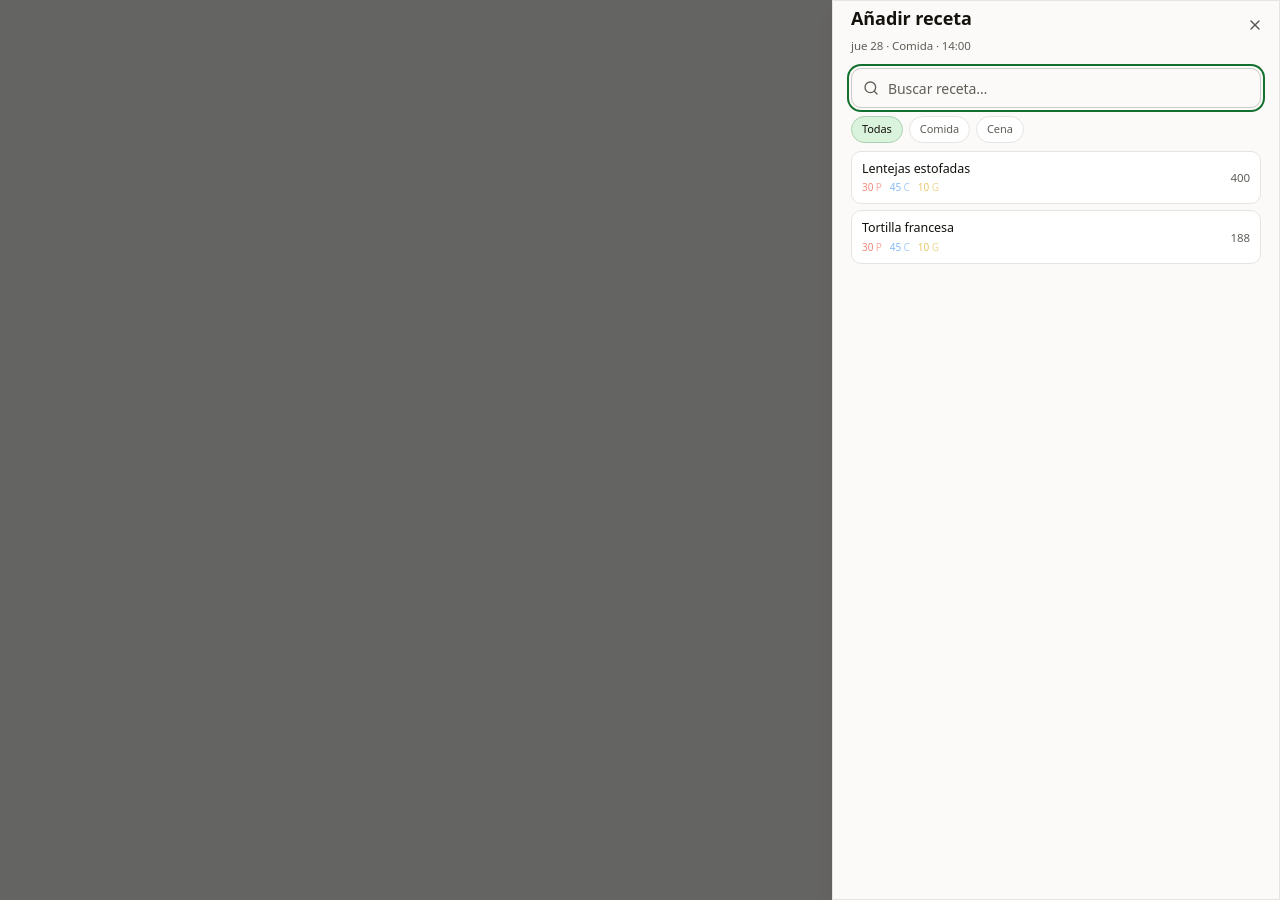
it: AddRecipeDrawer › filters the recipe list by meal-type chips, composing with the search box
Expected: the text "Lentejas estofadas" is shown, [862, 160, 970, 176]
Expected: the text "Tortilla francesa" is shown, [862, 219, 954, 236]
Click the radio button labelled "Cena" at (1000, 129), box [976, 116, 1024, 142]
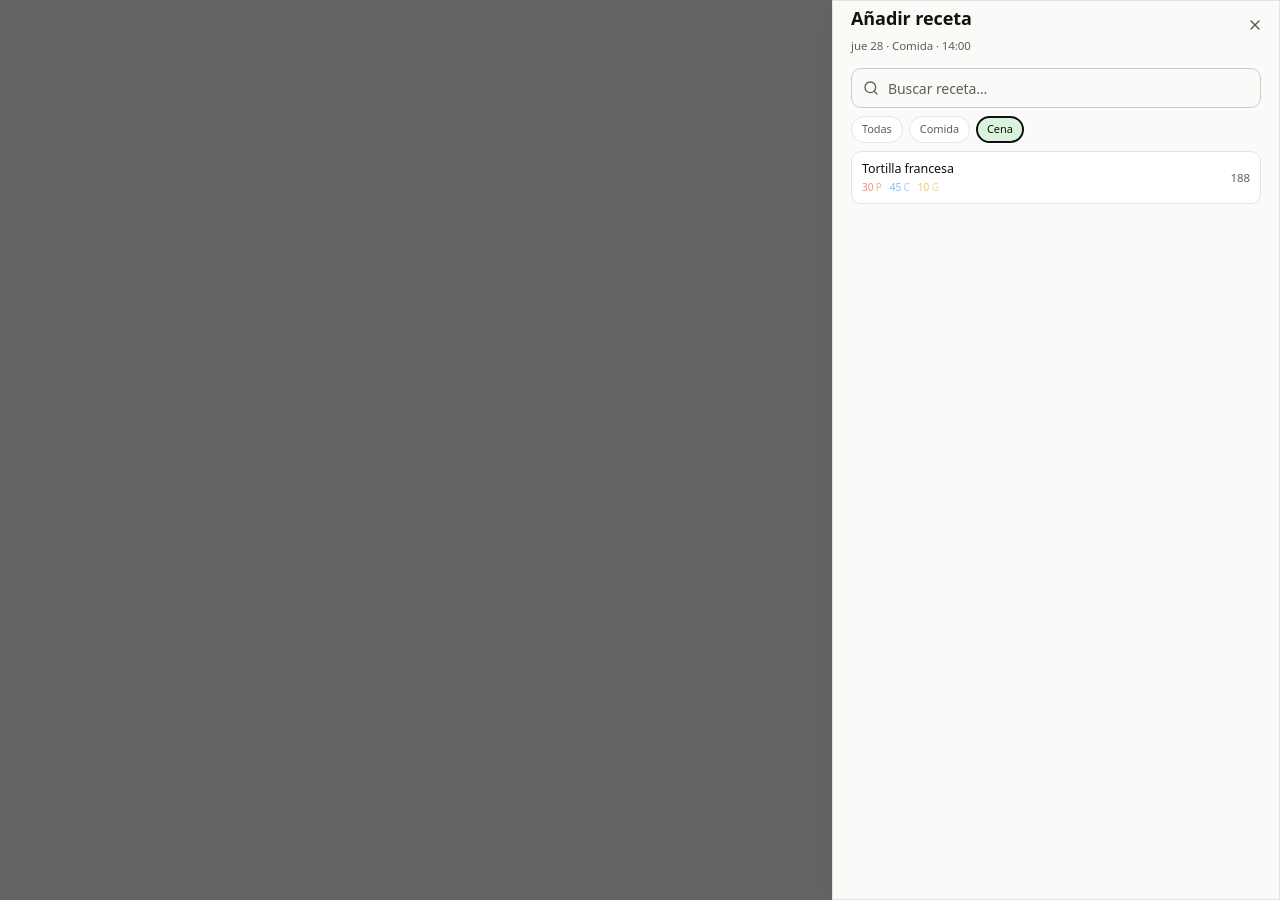
Expected: the text "Tortilla francesa" is shown, [862, 160, 954, 176]
Now the button "Lentejas estofadas" is gone
Note: Chips compose (AND) with the search box.
Type "lentej" into the search field at (1056, 88), box [851, 68, 1261, 108]
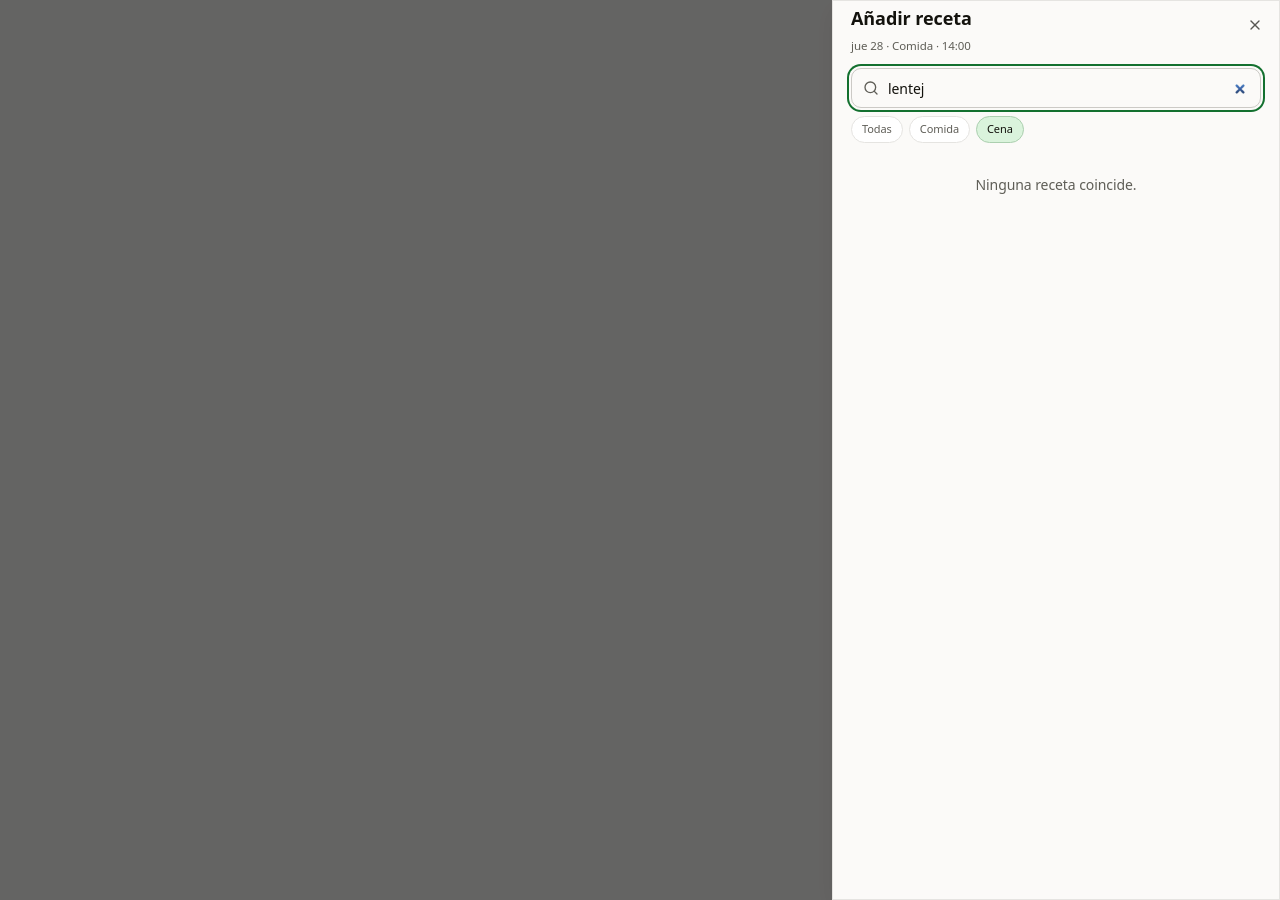
Expected: the button "Lentejas estofadas" is not shown
Now the button "Tortilla francesa" is gone
Click the radio button labelled "Todas" at (877, 129), box [851, 116, 903, 142]
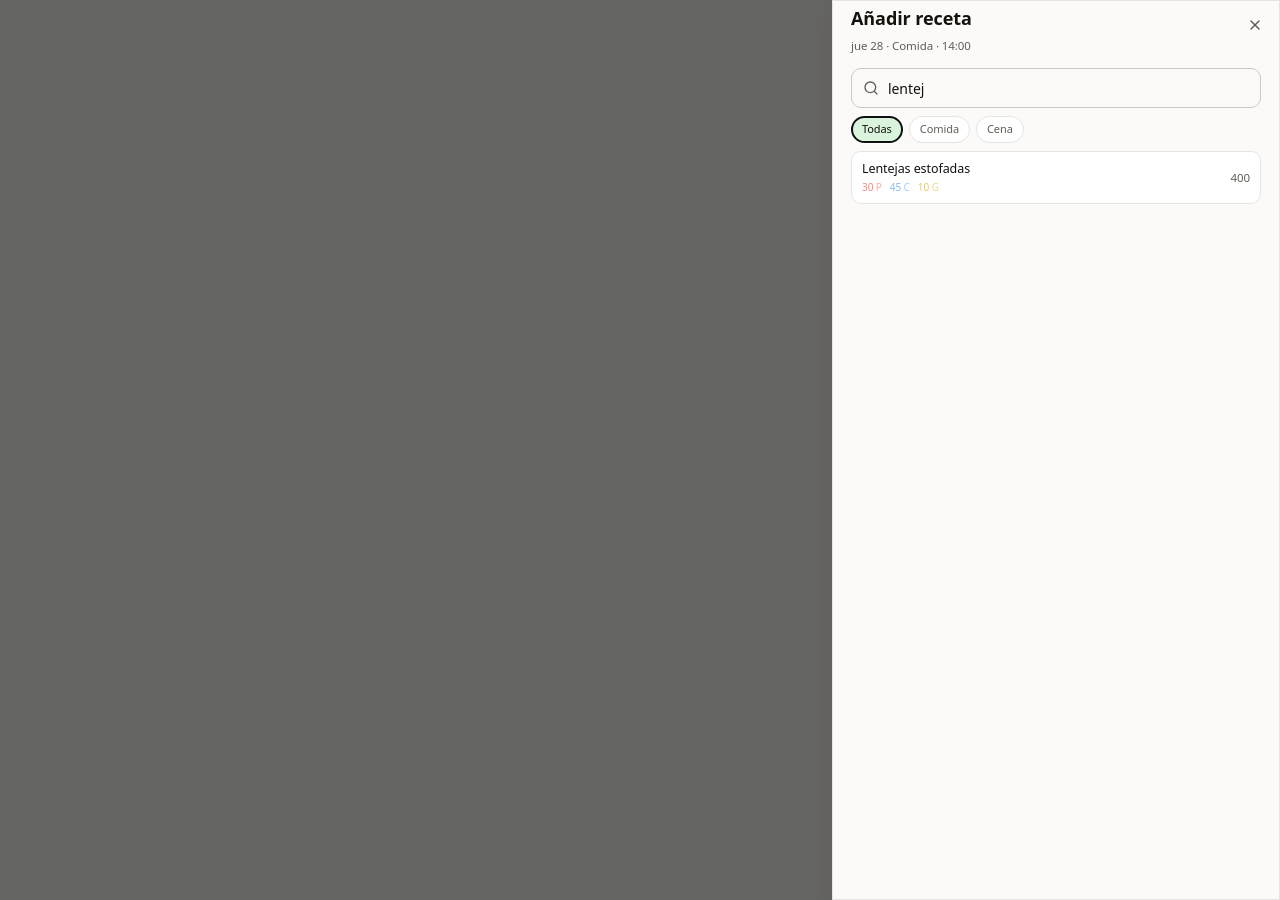
Expected: the button "Tortilla francesa" is not shown
Now the text "Lentejas estofadas" is shown, box [862, 160, 970, 176]
